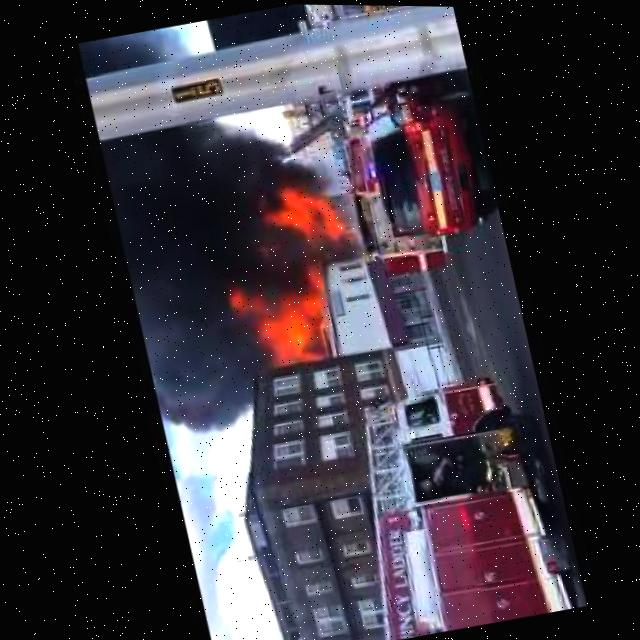Fire: (219, 255, 337, 380), (251, 176, 350, 260)
Smoke: (87, 110, 300, 442)
